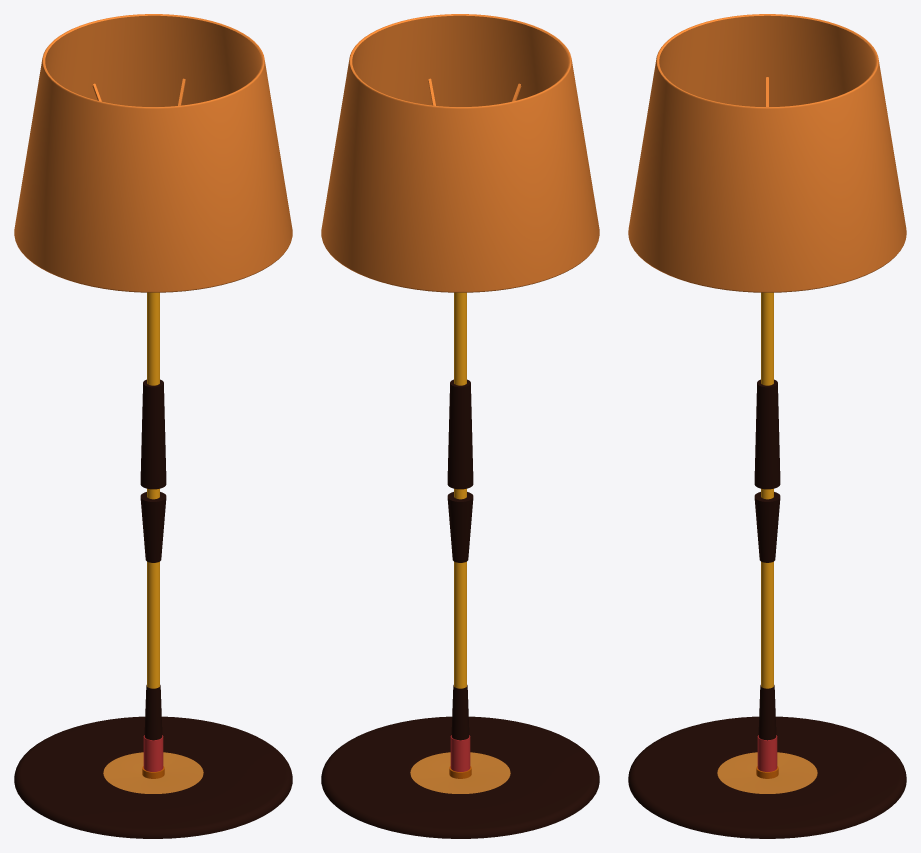
File: Lamp.obj
3 renders of one model, left to right at view 1: azimuth 30°, elevation 25°; view 2: azimuth 150°, elevation 25°; view 3: azimuth 270°, elevation 25°, orthographic.
Visible parts, largest first — view 1: Lamp_Lamp_LampCover, Lamp_Lamp_LampDown, Lamp_Lamp_Lamp, Lamp_Lamp_LampDownCenter, Lamp_Lamp_LampCenterup; view 2: Lamp_Lamp_LampCover, Lamp_Lamp_LampDown, Lamp_Lamp_Lamp, Lamp_Lamp_LampDownCenter, Lamp_Lamp_LampCenterup; view 3: Lamp_Lamp_LampCover, Lamp_Lamp_LampDown, Lamp_Lamp_Lamp, Lamp_Lamp_LampDownCenter, Lamp_Lamp_LampCenterup.
Part boxes in pixels (box(x1,y1,x2,y2)): Lamp_Lamp_LampCover: box(14, 14, 292, 292); Lamp_Lamp_LampDown: box(14, 379, 292, 838); Lamp_Lamp_Lamp: box(147, 292, 159, 688); Lamp_Lamp_LampDownCenter: box(103, 752, 203, 793); Lamp_Lamp_LampCenterup: box(143, 735, 163, 771); Lamp_Lamp_LampCover: box(321, 14, 599, 292); Lamp_Lamp_LampDown: box(321, 379, 599, 838); Lamp_Lamp_Lamp: box(454, 292, 466, 688); Lamp_Lamp_LampDownCenter: box(410, 752, 510, 793); Lamp_Lamp_LampCenterup: box(450, 735, 470, 771); Lamp_Lamp_LampCover: box(628, 14, 906, 292); Lamp_Lamp_LampDown: box(628, 379, 906, 838); Lamp_Lamp_Lamp: box(761, 292, 773, 688); Lamp_Lamp_LampDownCenter: box(717, 752, 817, 793); Lamp_Lamp_LampCenterup: box(757, 735, 777, 771).
Bounding box in the file's own units: 4 × 11.4 × 4.
